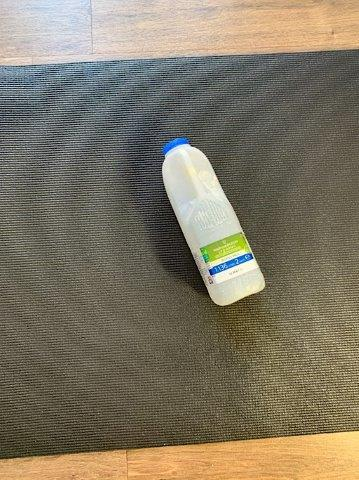botolplastik: (161, 139, 265, 303)
